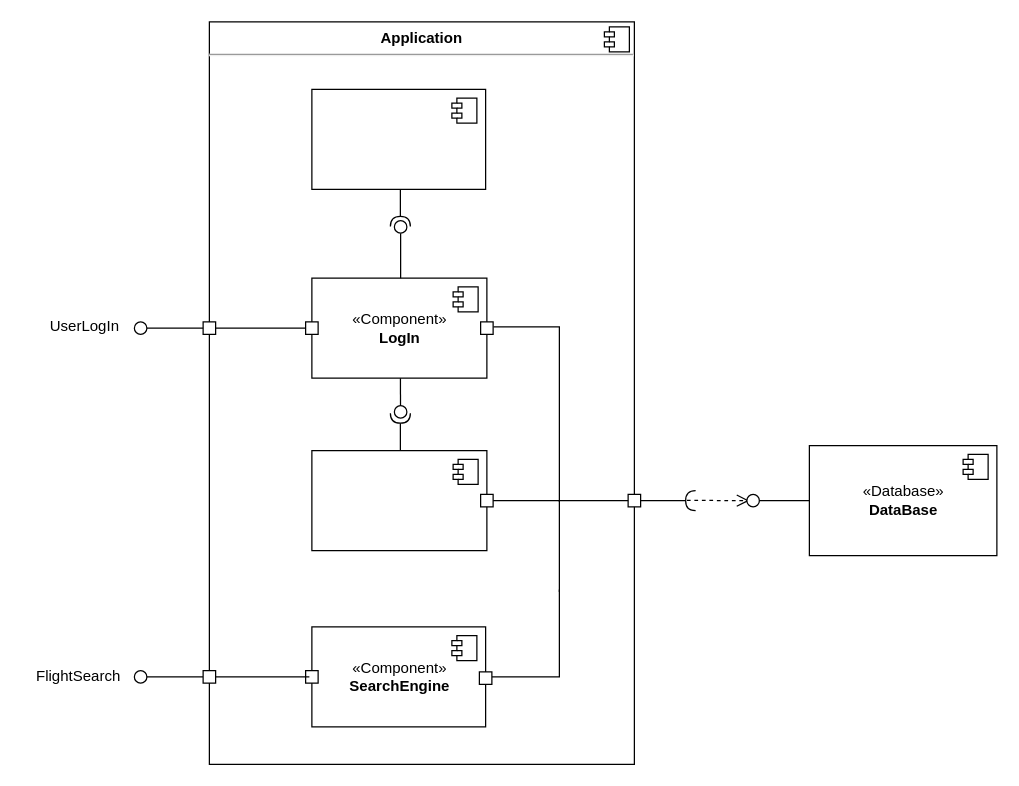
This 1019x786 diagram has some shape labels left out. The centre of each missing label's shape, as x and y in pixels:
«Component» History: point (399, 500)
«Component» Payment: point (398, 138)
